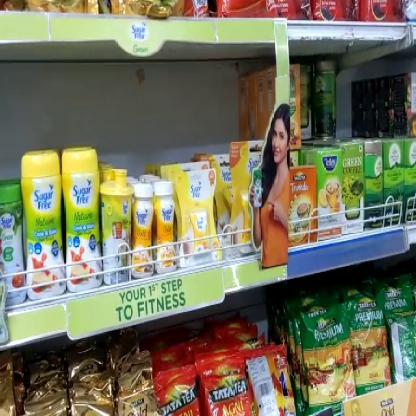SUGAR FREE GOLD 500 PELLET: (178, 168, 218, 268)
SUGAR FREE GOLD POWDER 100GM: (133, 184, 154, 278), (155, 180, 175, 276)
SUGAR FREE NATURA DIET SUGAR 80GM: (22, 152, 66, 294), (62, 150, 101, 294)
SUGAR FREE_GRN_ POWDER_CONC_100G: (2, 180, 24, 314)
